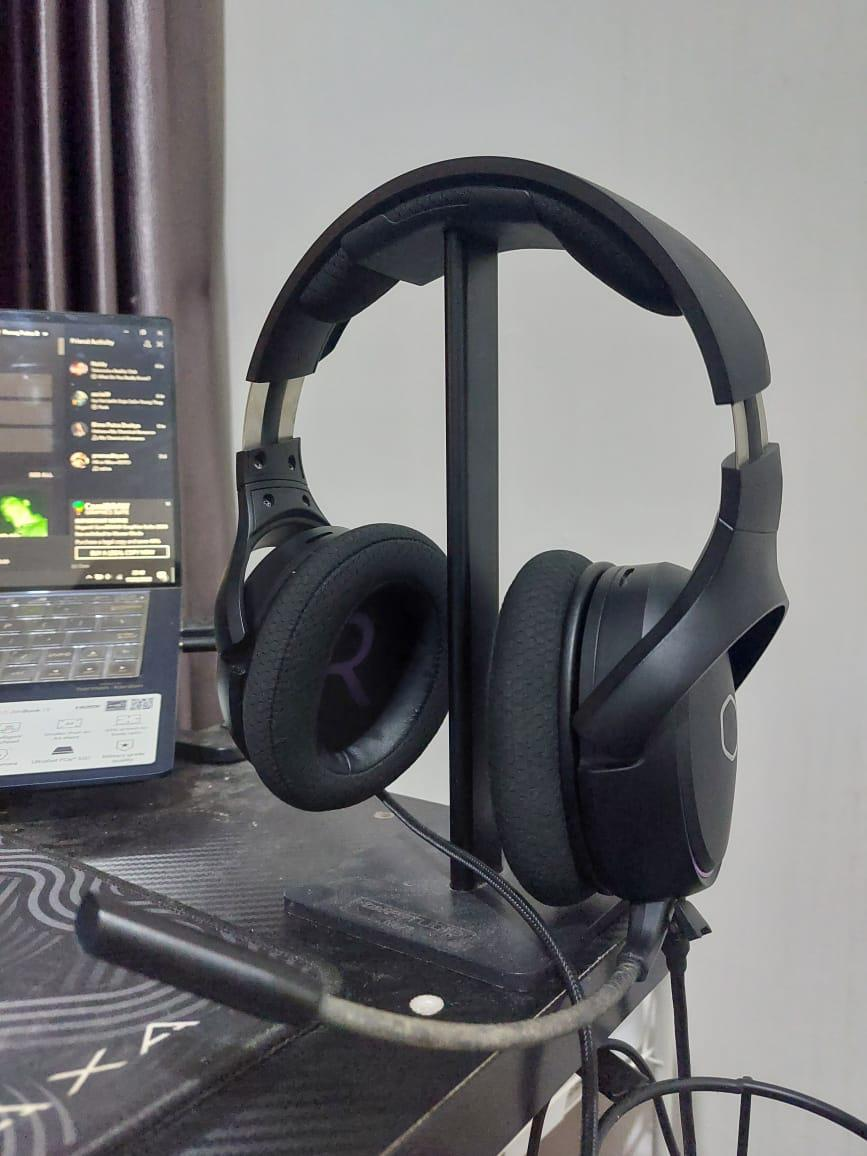Headset: (75, 143, 795, 1071)
